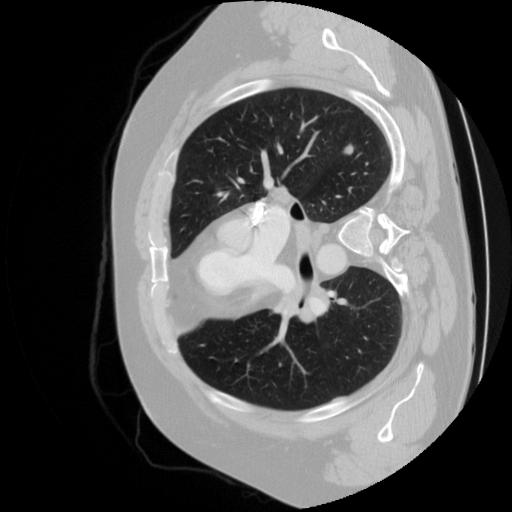nodule: (341, 141, 357, 157)
